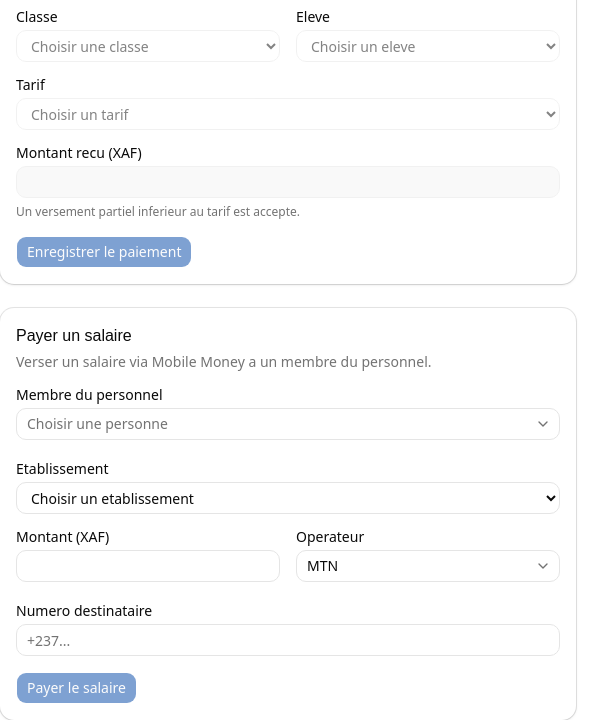
PaymentsPage › role Administrateur : ne propose que le personnel (pas les parents) et paie un salaire
(page scrolled)
Expected: the text "Payer un salaire" is shown, [16,327,132,344]
Click the dropdown with id "salaryStaff". click: x=97, y=424
box: [16,408,560,440]
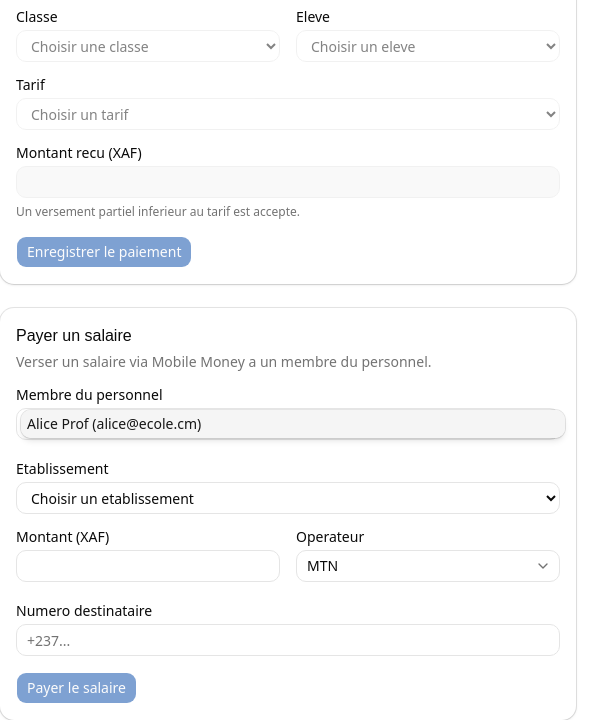
Click the option "Alice Prof (alice@ecole.cm)". click: x=58, y=424
box: [21,410,565,438]
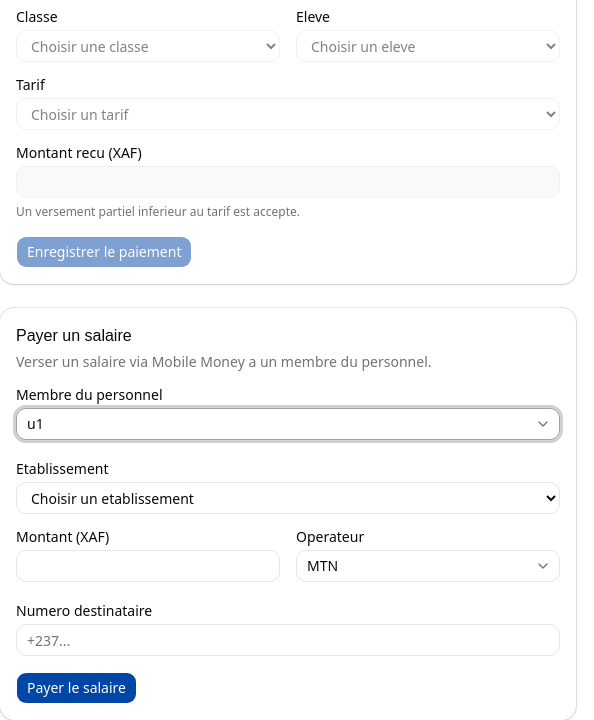
Select "Ecole Centrale" in the dropdown with id "salaryEstablishment". click: x=288, y=498
box: [16,482,560,514]
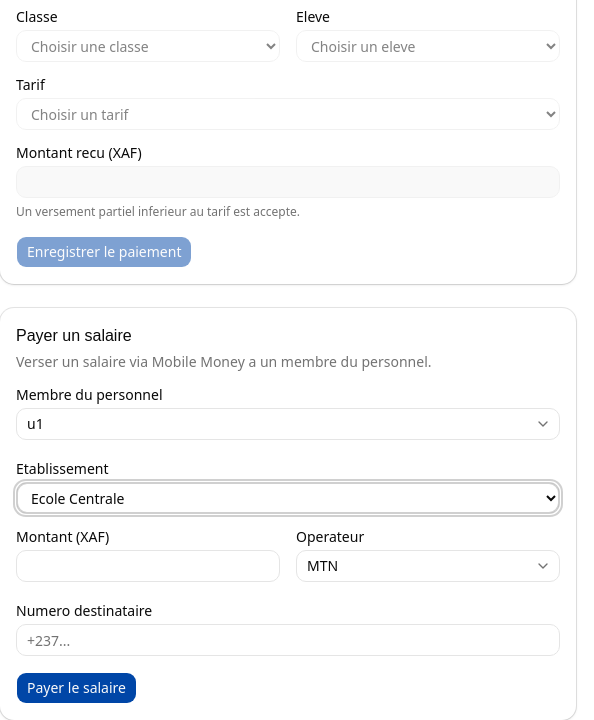
Type "150000" into the number field labelled "Montant (XAF)". click: x=148, y=566
box: [16,550,280,582]
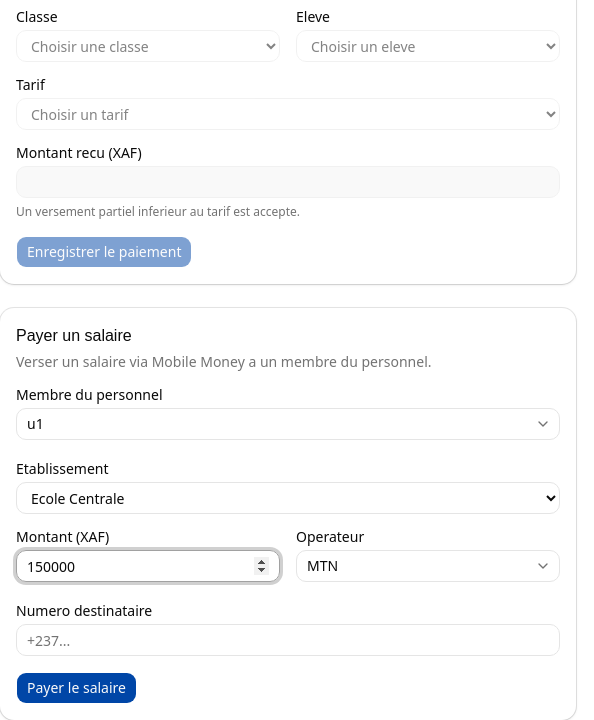
Type "+237600000000" into the field labelled "Numero destinataire". click: x=288, y=640
box: [16,624,560,656]
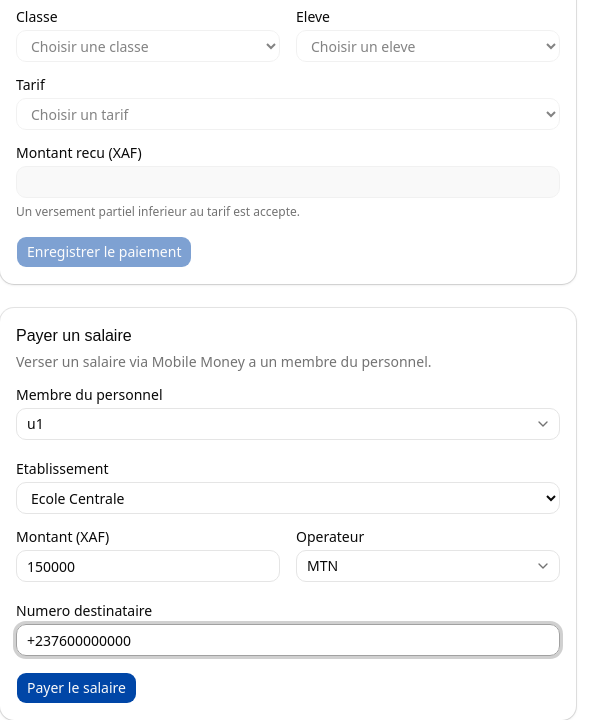
Click the button "Payer le salaire". click: x=76, y=688
box: [16,672,137,704]
(page scrolled)
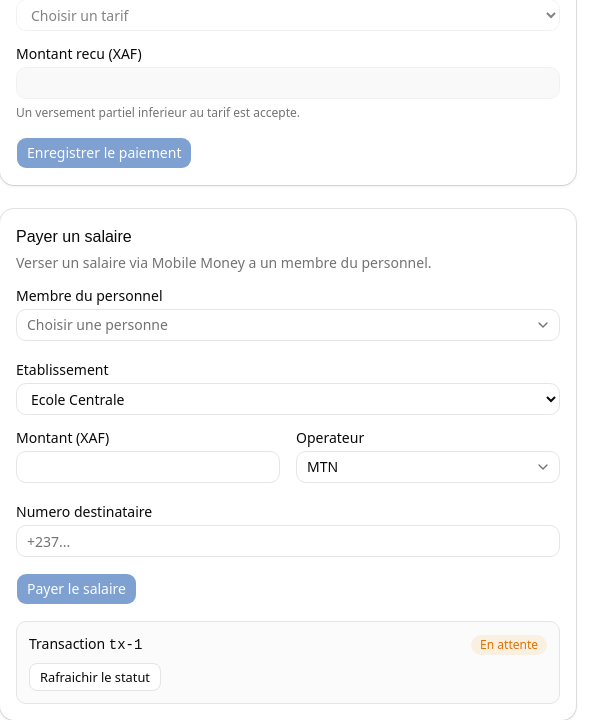
Expected: the text "En attente" is shown, [471,634,547,654]
